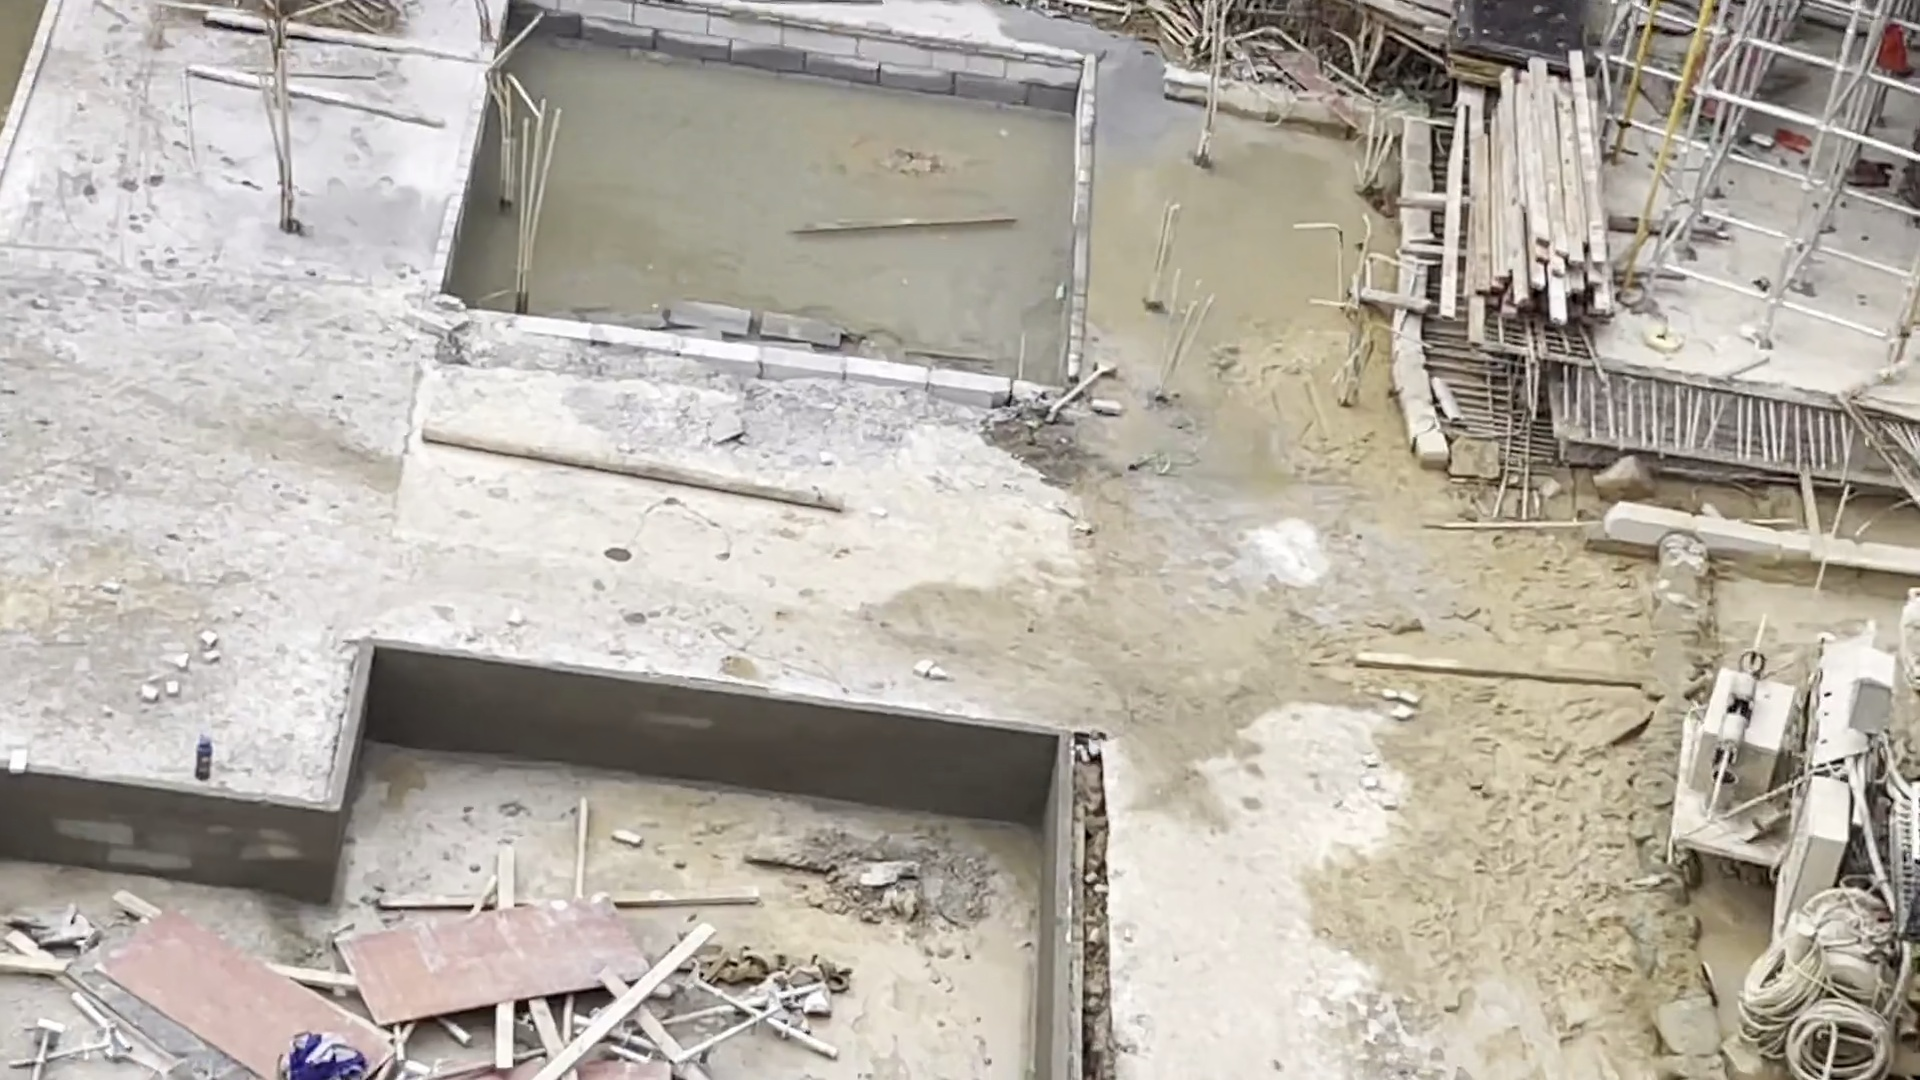wood: (1437, 47, 1606, 348)
